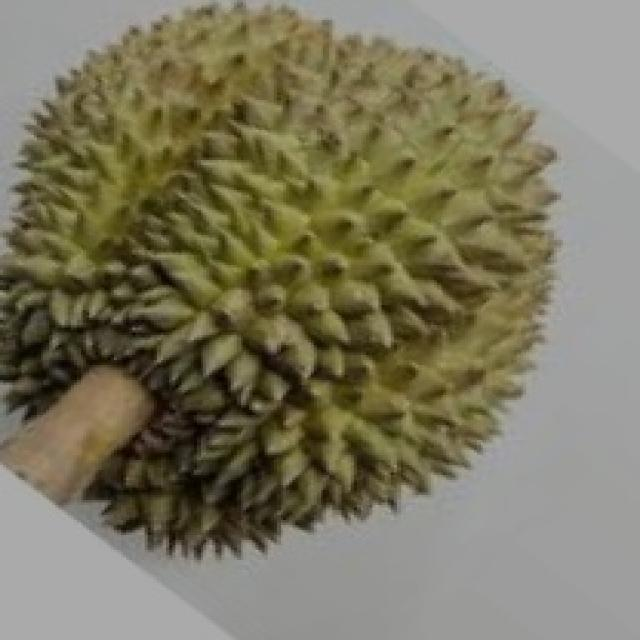fruit: (209, 212, 631, 598), (0, 217, 369, 640), (0, 3, 345, 425)
